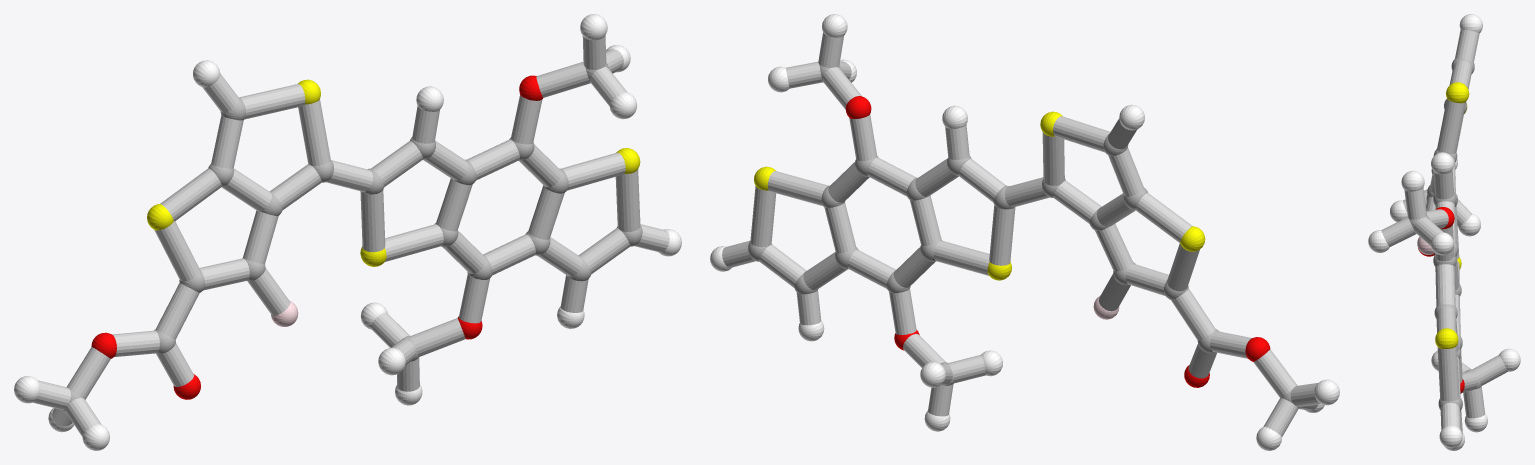
The model's file is color.glb.
3 renders of one model, left to right at view 1: azimuth 30°, elevation 25°; view 2: azimuth 150°, elevation 25°; view 3: azimuth 270°, elevation 25°, orthographic. The views are drawn at different scales.
Visible parts, largest first — view 1: grp15205, grp8689, grp1, grp13395, grp7241; view 2: grp15205, grp8689, grp1, grp7241, grp13395; view 3: grp15205, grp8689, grp1, grp7241, grp13395, grp14843.
Boxes of the visible parts, <box> form: grp15205: <box>33,35,669,436</box>; grp8689: <box>14,14,681,450</box>; grp1: <box>62,62,642,412</box>; grp13395: <box>91,75,542,399</box>; grp7241: <box>147,79,640,266</box>; grp15205: <box>722,32,1320,436</box>; grp8689: <box>710,14,1339,450</box>; grp1: <box>748,65,1300,408</box>; grp7241: <box>754,111,1205,280</box>; grp13395: <box>845,96,1270,387</box>; grp15205: <box>1381,29,1507,433</box>; grp8689: <box>1368,14,1520,450</box>; grp1: <box>1409,58,1481,411</box>; grp7241: <box>1435,82,1469,348</box>; grp13395: <box>1418,207,1464,393</box>; grp14843: <box>1417,236,1434,254</box>.
Bounding box in the file's own units: 16.73 × 9.47 × 3.94.
